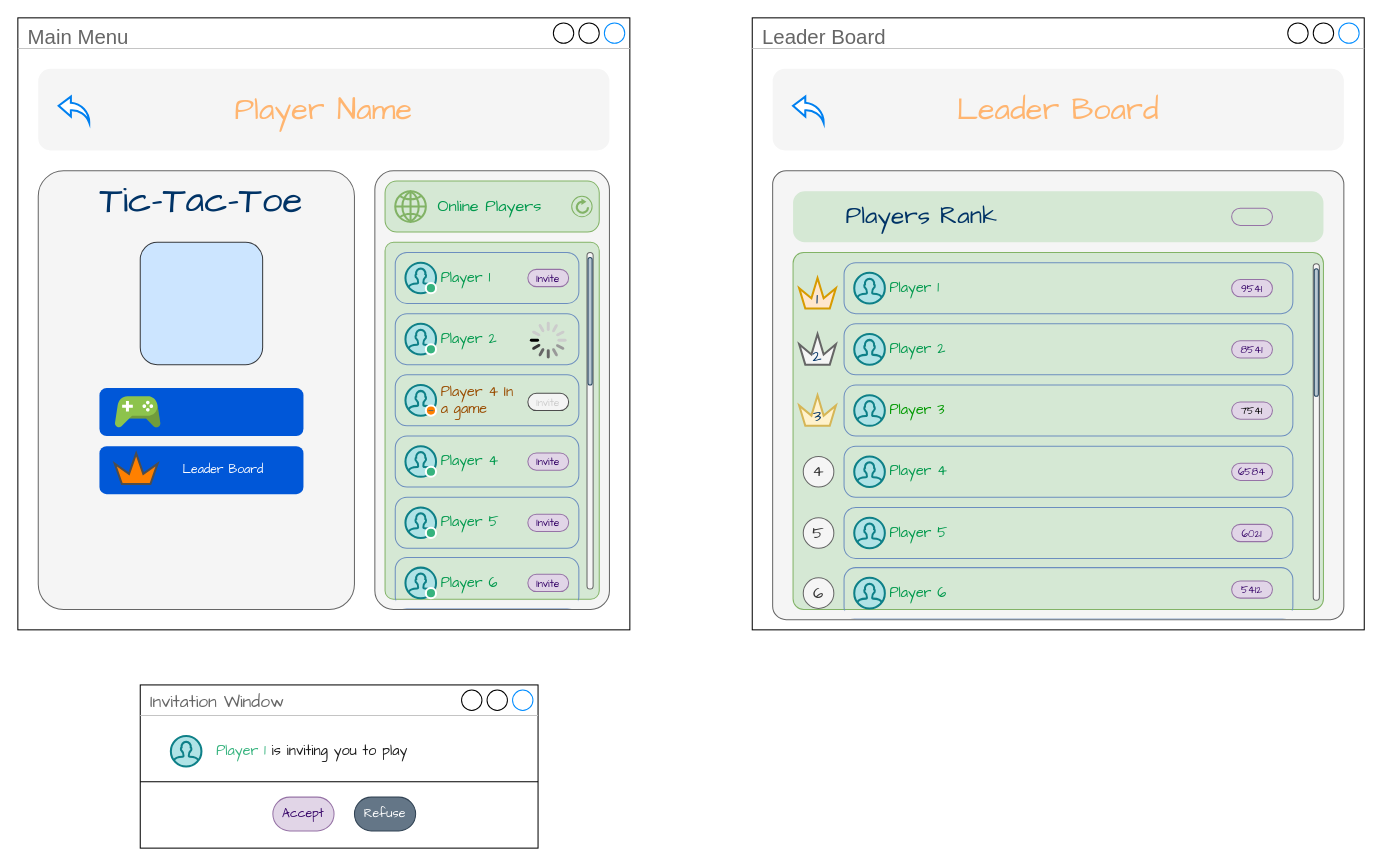
The diagram is 1382 pixels wide and 866 high, and some of its shapes have lost their labels. Here are the shapes that lost their labels. From the top down, the centre of each, then its label:
At point (1251, 216): "Score".
At point (201, 303): "GAME ICON".
At point (201, 412): "Play with PC".
